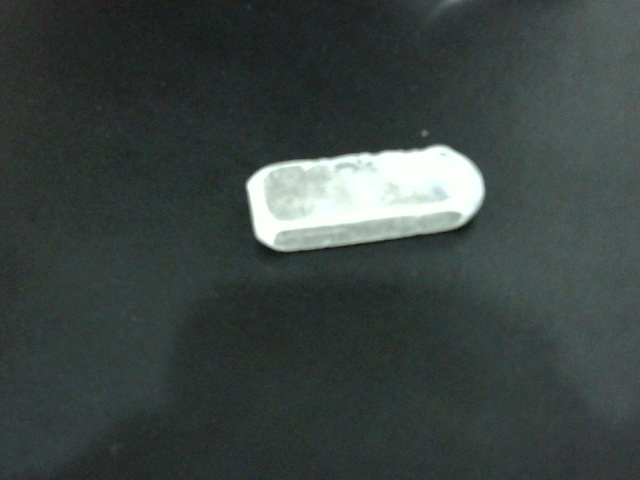eraser: (221, 141, 494, 255)
